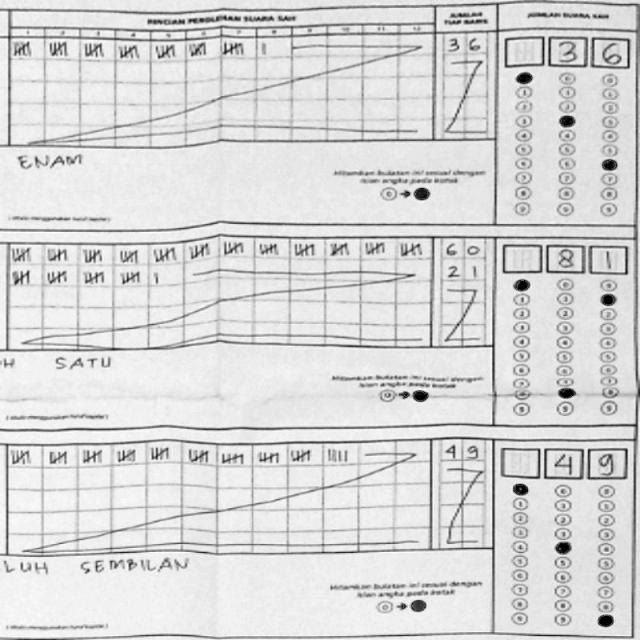Suara: (495, 441, 630, 480), (496, 238, 630, 276), (499, 32, 631, 66)
